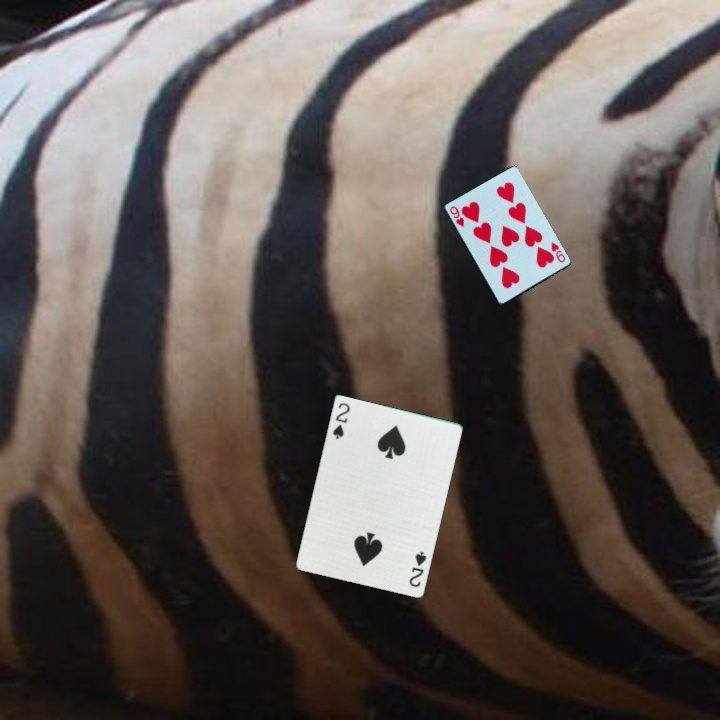2s: (329, 399, 353, 443), (406, 548, 429, 590)
9h: (446, 203, 467, 230), (548, 239, 569, 265)
